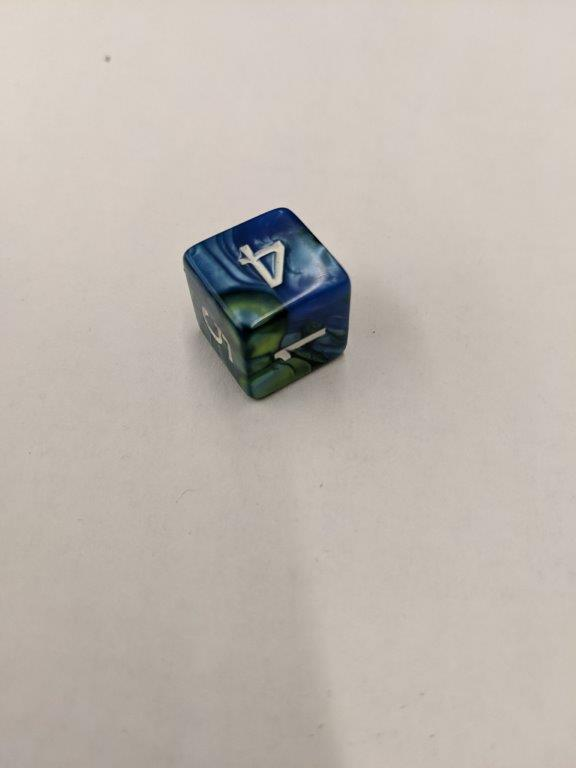d6-4: (182, 204, 353, 400)
